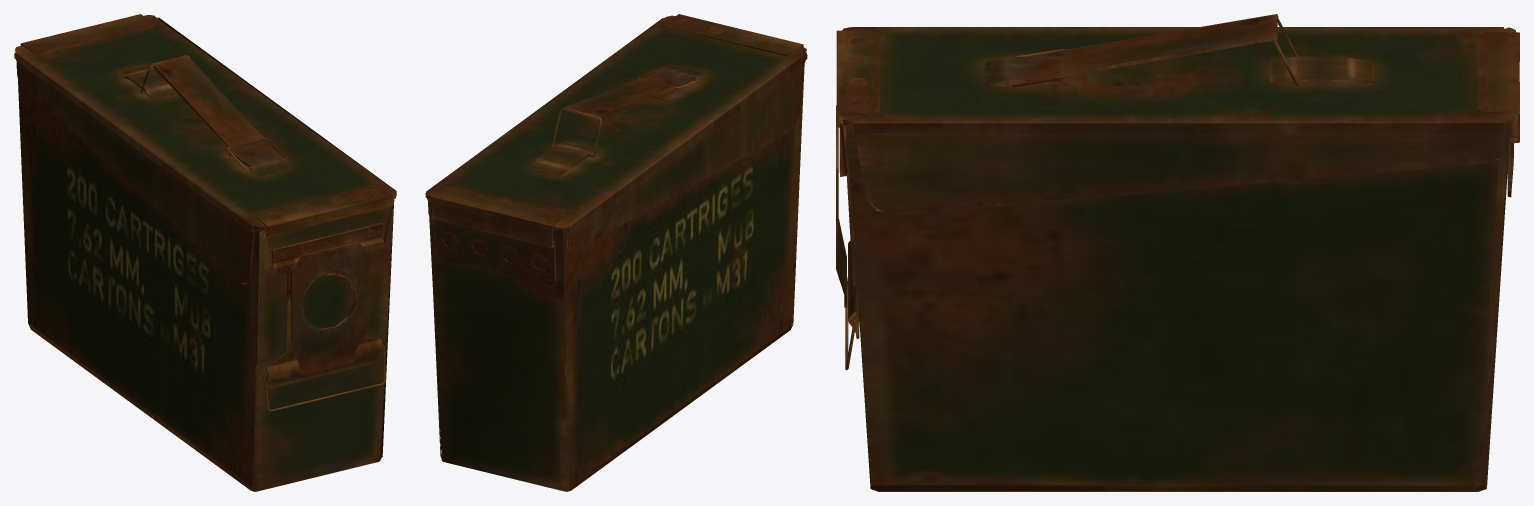
File: ammo_box_1k.gltf
The picture shows the model from 3 angles, left to right: view 1: azimuth 30°, elevation 25°; view 2: azimuth 150°, elevation 25°; view 3: azimuth 270°, elevation 25°; orthographic projection. The views are drawn at different scales.
Parts seen in each view (by area): view 1: ammo_box_LOD0, ammo_box_handle_LOD0, ammo_box_latch_LOD0; view 2: ammo_box_LOD0, ammo_box_handle_LOD0; view 3: ammo_box_LOD0, ammo_box_handle_LOD0.
Boxes of the visible parts, x1,y1,x2,y2 form: ammo_box_LOD0: (14,14,396,491); ammo_box_handle_LOD0: (152,55,265,149); ammo_box_latch_LOD0: (263,345,386,411); ammo_box_LOD0: (425,14,807,491); ammo_box_handle_LOD0: (563,78,675,119); ammo_box_LOD0: (836,27,1519,491); ammo_box_handle_LOD0: (1062,14,1278,76).
Size of what is drawn, in the model's own units: 0.0865 by 0.1774 by 0.2577.
Materials: 1 (1 with a texture image).
